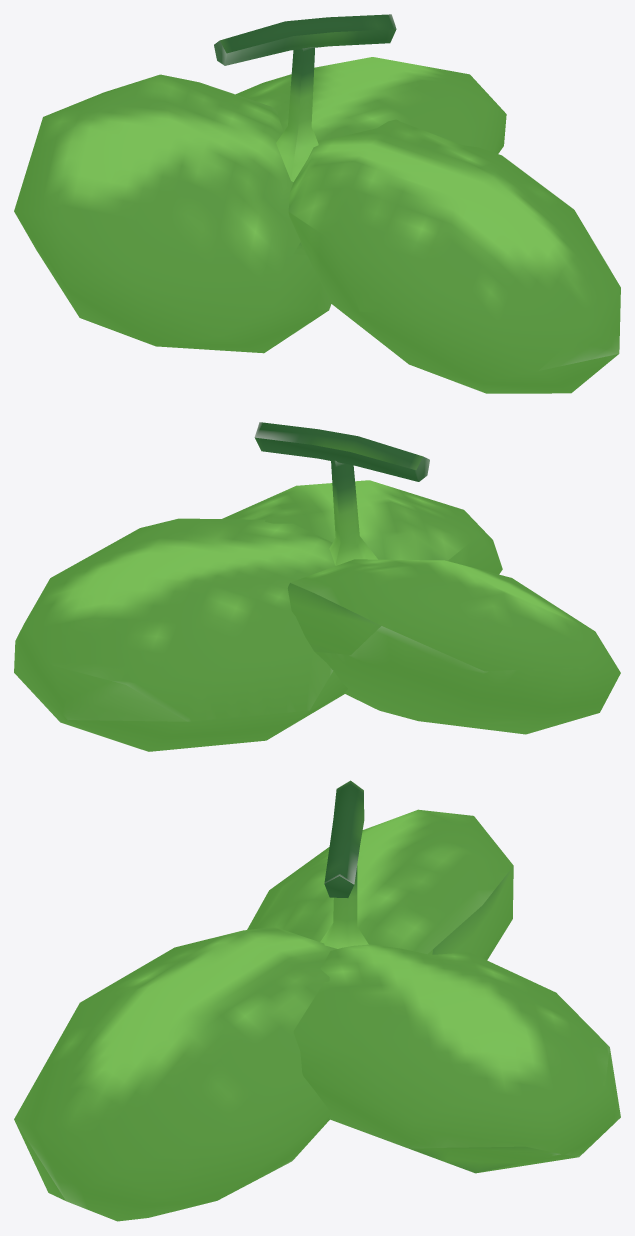
File: Sortuta_Berry.fbx
3 views of the same model, one above another, from view 1: azimuth 30°, elevation 25°; view 2: azimuth 150°, elevation 25°; view 3: azimuth 270°, elevation 25° (orthographic). The views are drawn at different scales.
Parts seen in each view (by area): view 1: Sortuta_Berry; view 2: Sortuta_Berry; view 3: Sortuta_Berry.
Boxes of the visible parts, box(x1,y1,x2,y2) form: Sortuta_Berry: box(14, 14, 620, 393); Sortuta_Berry: box(14, 422, 620, 751); Sortuta_Berry: box(14, 780, 620, 1221).
Bounding box in the file's own units: 1.83 × 1.06 × 1.8.
